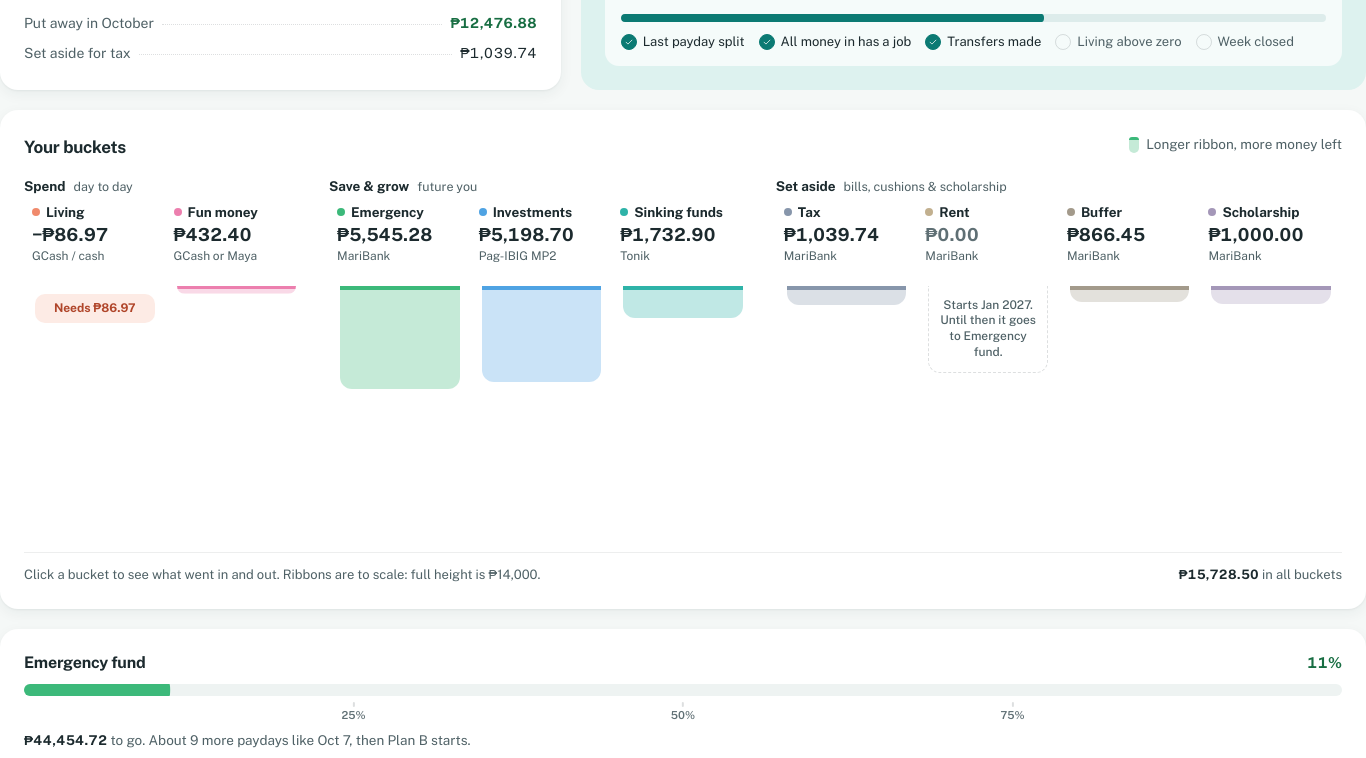
Test: bucket drawer › Scholarship says it isn't part of the split; Rent says where its share goes
(page scrolled)
Click the button with test id "slot-dost" at [1271, 375], box [1200,204,1342,546]
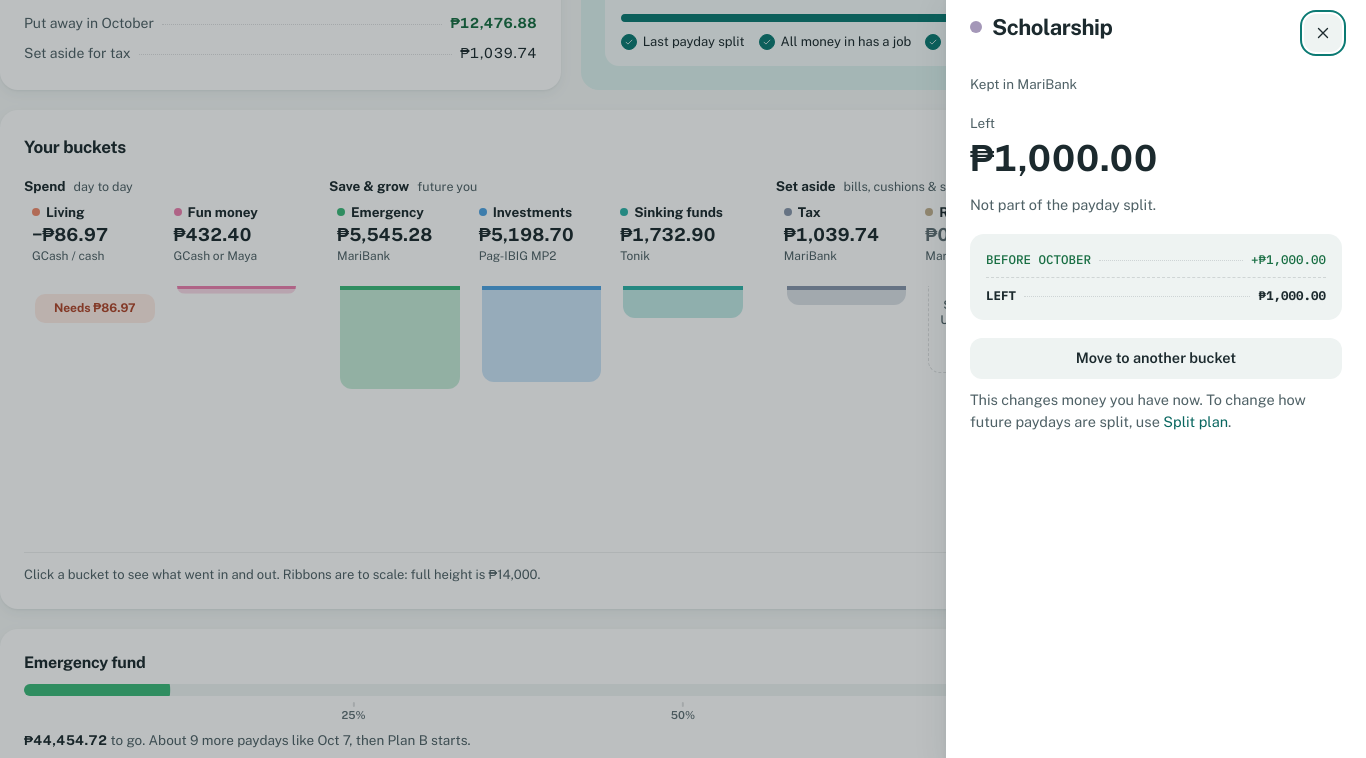
Now the text "Not part of the payday split." is shown, box [970,196,1156,213]
